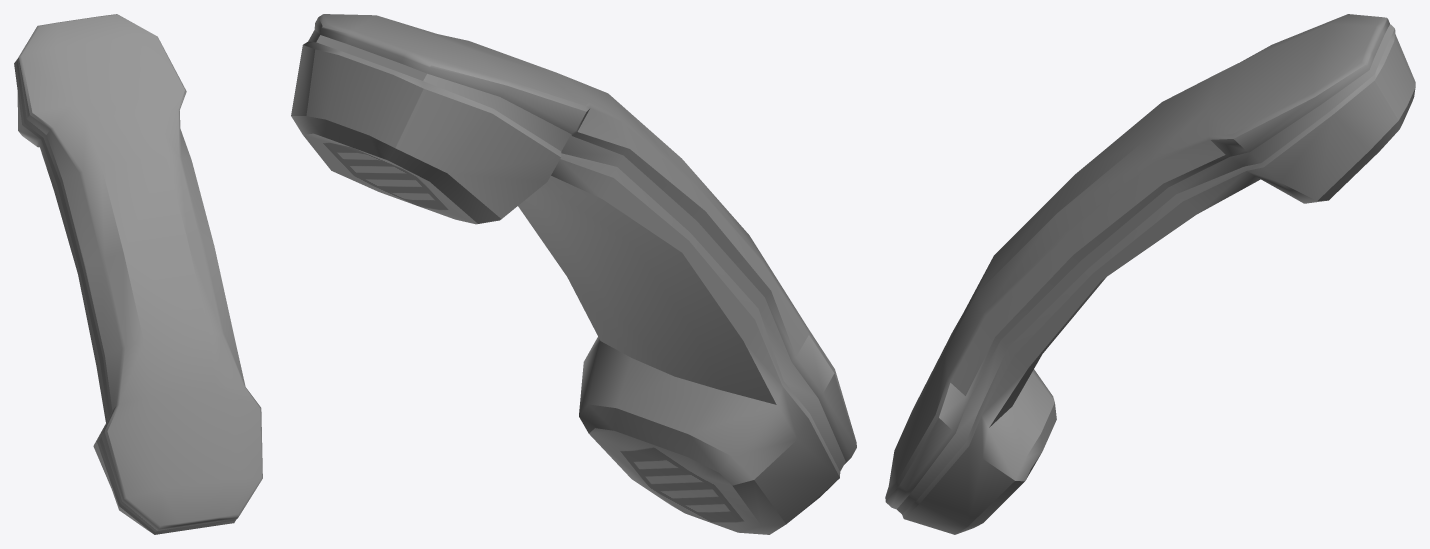
The model's file is Phone 2 horn V2.fbx.
3 renders of one model, left to right at view 1: azimuth 30°, elevation 25°; view 2: azimuth 150°, elevation 25°; view 3: azimuth 270°, elevation 25°, orthographic. The views are drawn at different scales.
Parts seen in each view (by area): view 1: pCube2; view 2: pCube2; view 3: pCube2.
Part boxes in pixels (bbox=[...]): pCube2: bbox=[14, 14, 262, 534]; pCube2: bbox=[291, 14, 856, 534]; pCube2: bbox=[885, 14, 1415, 534].
Size of the model in its own units: 7.78 by 15.58 by 14.63.
1 material, 1 textured.
